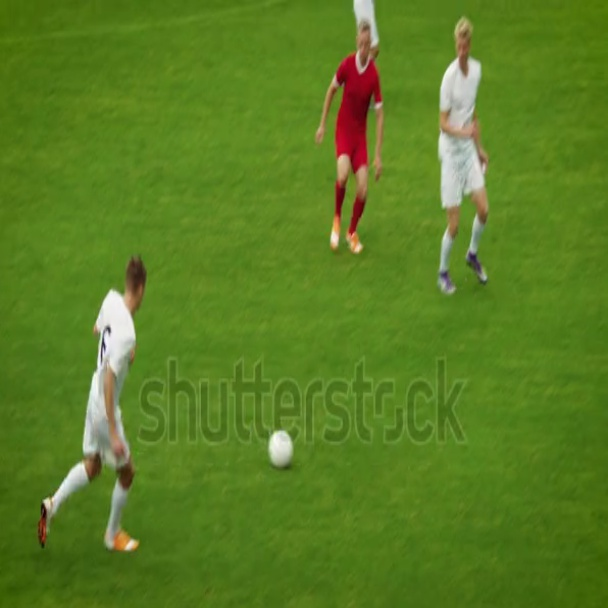ball: (264, 427, 296, 476)
